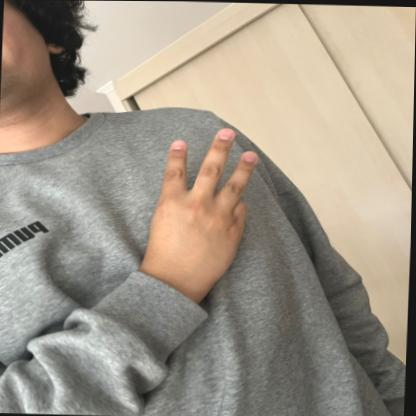W: (143, 121, 262, 289)
